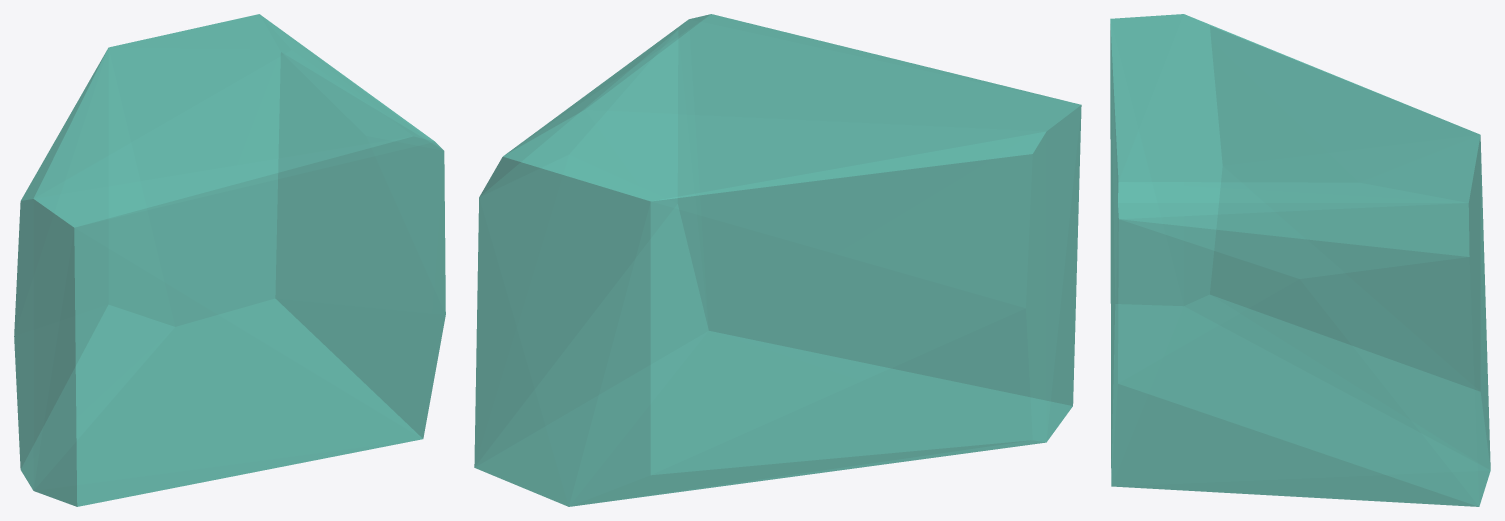
The picture shows the model from 3 angles, left to right: view 1: azimuth 30°, elevation 25°; view 2: azimuth 150°, elevation 25°; view 3: azimuth 270°, elevation 25°; orthographic projection. The views are drawn at different scales.
Parts seen in each view (by area): view 1: Shape_IndexedFaceSet.016_Shape_IndexedFaceSet.18239; view 2: Shape_IndexedFaceSet.016_Shape_IndexedFaceSet.18239; view 3: Shape_IndexedFaceSet.016_Shape_IndexedFaceSet.18239.
Boxes of the visible parts, x1,y1,x2,y2 form: Shape_IndexedFaceSet.016_Shape_IndexedFaceSet.18239: (14, 14, 445, 506); Shape_IndexedFaceSet.016_Shape_IndexedFaceSet.18239: (474, 14, 1081, 506); Shape_IndexedFaceSet.016_Shape_IndexedFaceSet.18239: (1110, 14, 1490, 506).
Size of the model in its own units: 0.1884 by 0.1448 by 0.159.
